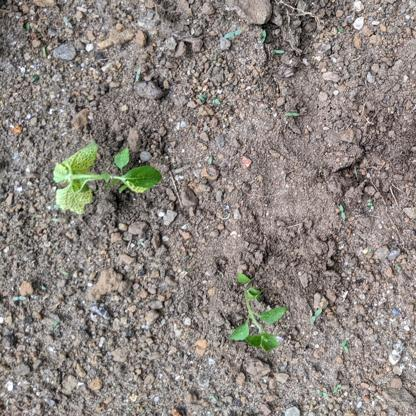weed: (53, 139, 162, 218), (223, 266, 287, 355)
